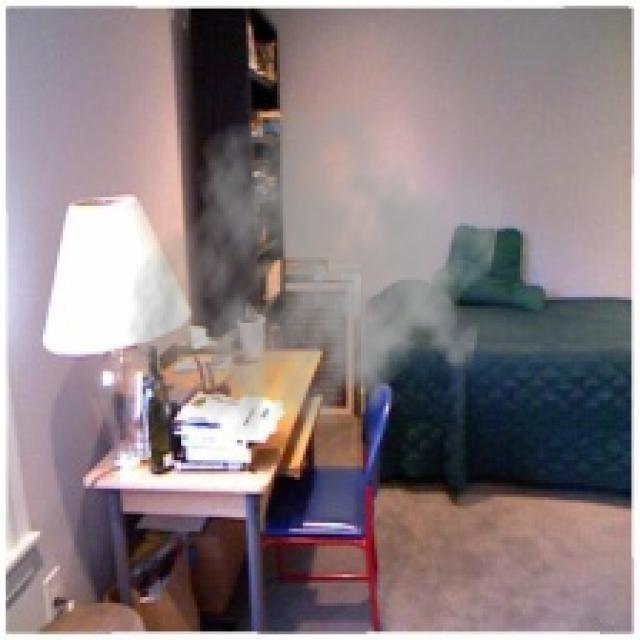smoke: (126, 80, 508, 474)
